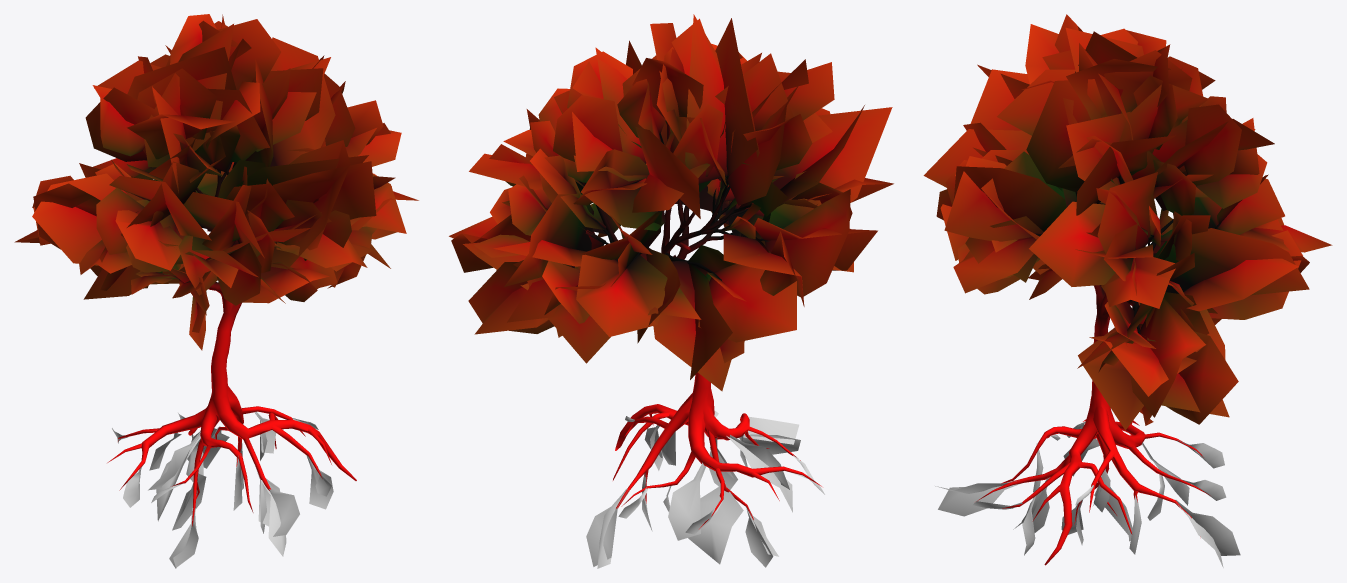
The model's file is ShrubTree_A.fbx.
3 renders of one model, left to right at view 1: azimuth 30°, elevation 25°; view 2: azimuth 150°, elevation 25°; view 3: azimuth 270°, elevation 25°, orthographic. The views are drawn at different scales.
Visible parts, largest first — view 1: ShrubTree_A_Leaves_LOD0, ShrubTree_A_Bark_LOD0, ShrubTree_A_Roots_LOD0; view 2: ShrubTree_A_Leaves_LOD0, ShrubTree_A_Roots_LOD0, ShrubTree_A_Bark_LOD0; view 3: ShrubTree_A_Leaves_LOD0, ShrubTree_A_Roots_LOD0, ShrubTree_A_Bark_LOD0.
Part boxes in pixels (<box>): ShrubTree_A_Leaves_LOD0: <box>14,14,418,350</box>; ShrubTree_A_Bark_LOD0: <box>107,162,356,526</box>; ShrubTree_A_Roots_LOD0: <box>112,411,333,568</box>; ShrubTree_A_Leaves_LOD0: <box>449,14,893,391</box>; ShrubTree_A_Roots_LOD0: <box>586,410,824,568</box>; ShrubTree_A_Bark_LOD0: <box>579,136,821,528</box>; ShrubTree_A_Leaves_LOD0: <box>923,14,1332,430</box>; ShrubTree_A_Roots_LOD0: <box>935,421,1240,567</box>; ShrubTree_A_Bark_LOD0: <box>977,138,1220,565</box>.
Size of what is drawn, in the model's own units: 7.32 by 9.14 by 6.19.
